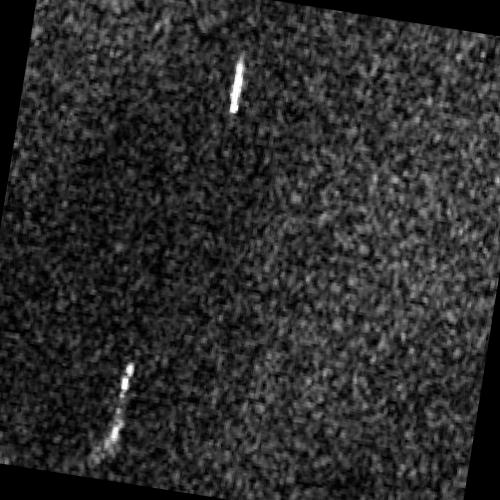ship: (111, 362, 136, 445), (229, 58, 245, 116)
